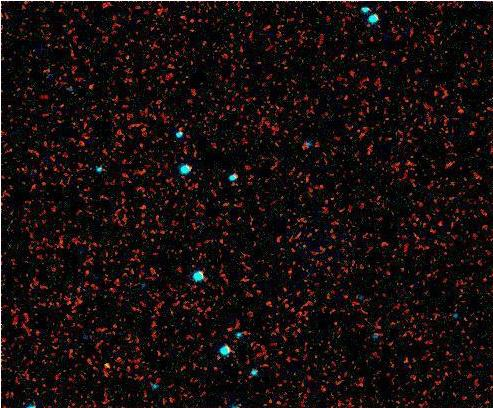star: (92, 349, 122, 379)
